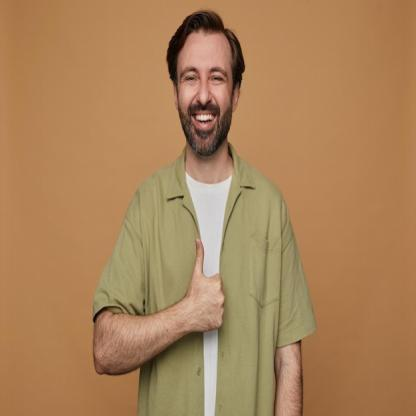thumb_up: (187, 234, 231, 340)
